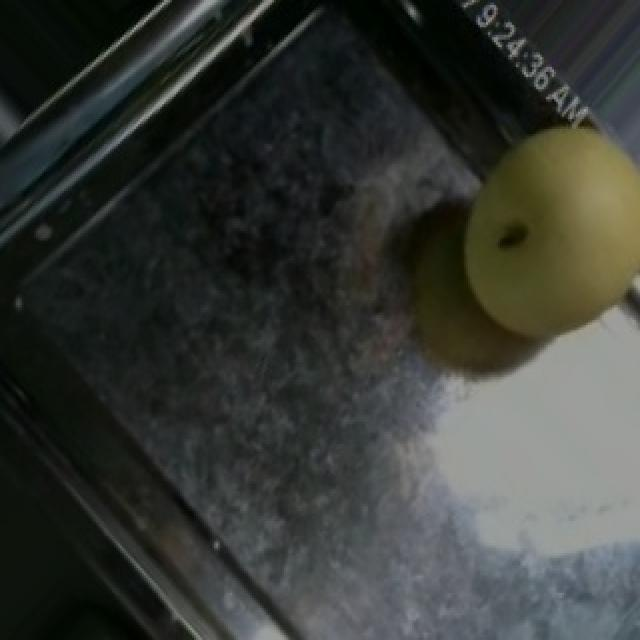Fruit: (422, 82, 640, 374)
